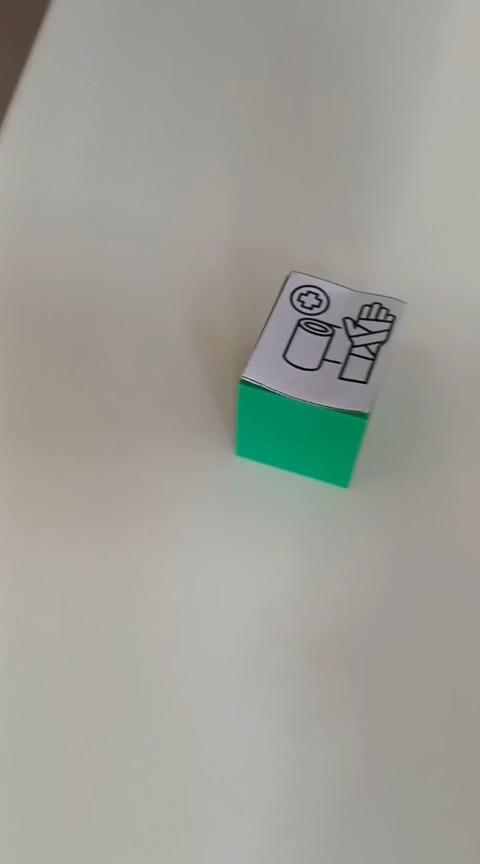Bandages: (233, 269, 407, 488)
